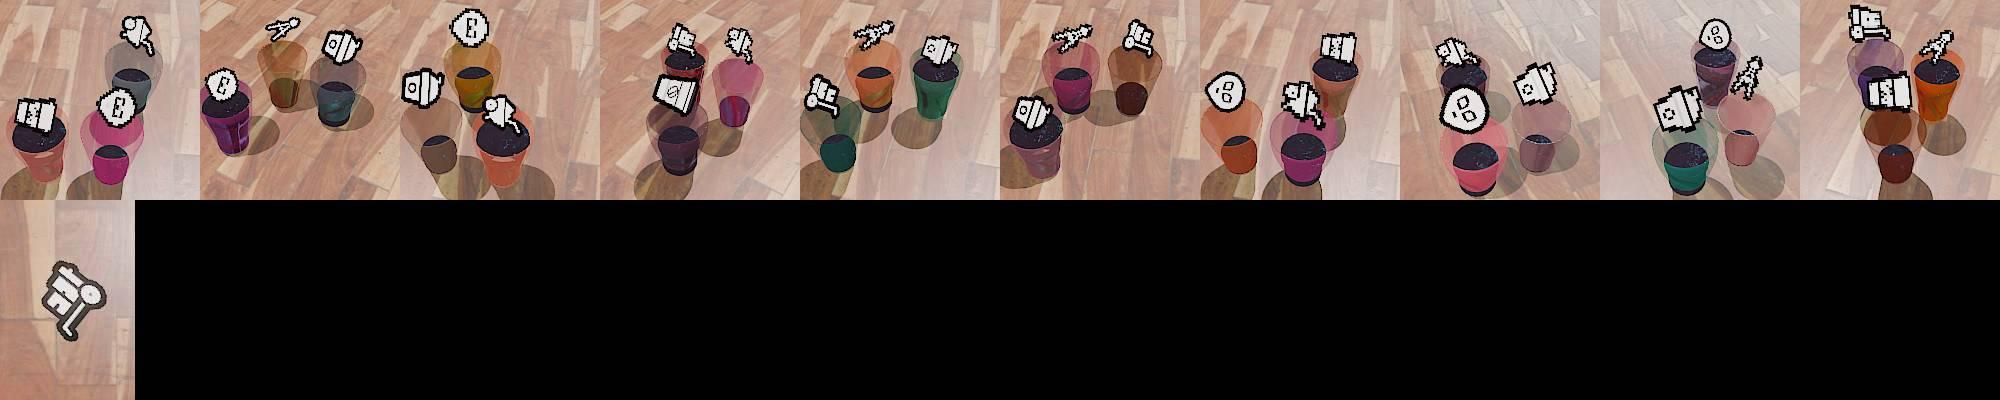icon: (40, 260, 110, 341), (1652, 84, 1704, 134), (1511, 61, 1560, 108), (652, 71, 702, 116), (1281, 80, 1325, 129), (1866, 70, 1913, 112), (94, 85, 139, 129), (402, 68, 445, 110), (1445, 87, 1489, 129), (448, 9, 494, 48), (1847, 4, 1889, 45), (1204, 70, 1245, 112), (804, 71, 842, 115), (13, 96, 56, 132), (1730, 55, 1763, 102), (321, 28, 364, 65), (851, 19, 895, 52), (1048, 20, 1093, 54), (1014, 93, 1054, 130), (120, 15, 156, 56), (203, 68, 241, 104), (918, 34, 959, 69), (1434, 36, 1476, 69), (481, 93, 518, 130), (1319, 31, 1357, 65), (1917, 29, 1955, 64), (666, 20, 700, 56), (1698, 18, 1732, 54), (1122, 18, 1156, 55), (723, 25, 756, 61), (264, 15, 302, 43)
